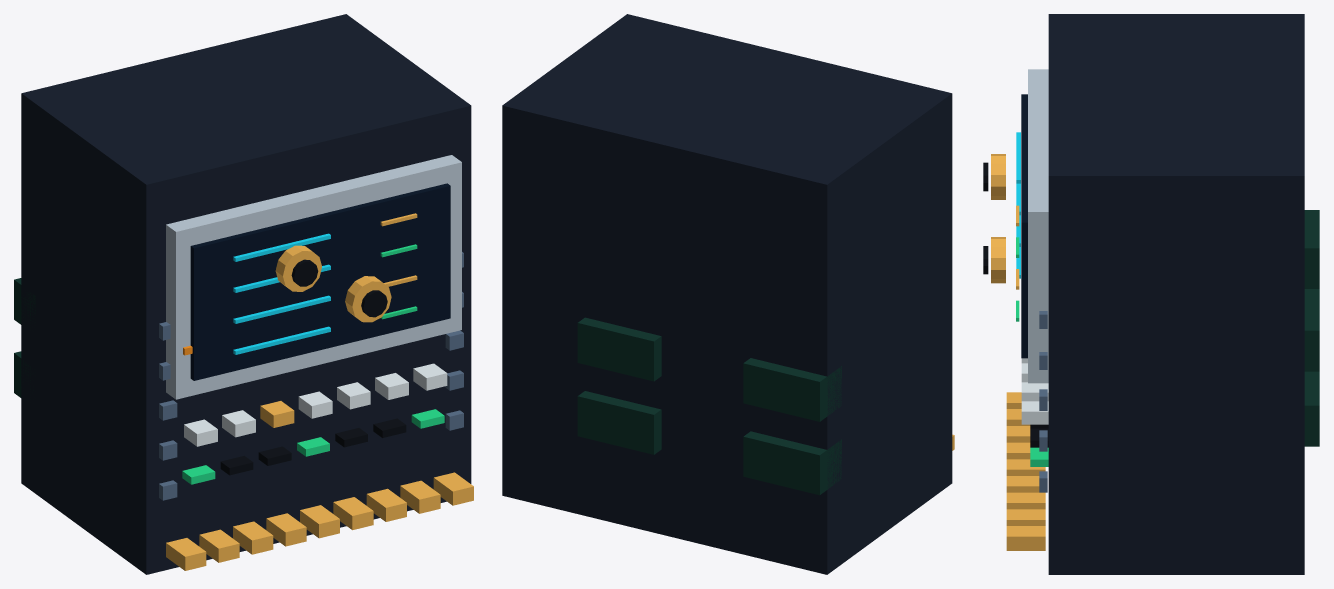
The model's file is 95_L91_MissionSummaryConsole.fbx.
3 renders of one model, left to right at view 1: azimuth 30°, elevation 25°; view 2: azimuth 150°, elevation 25°; view 3: azimuth 270°, elevation 25°, orthographic. The views are drawn at different scales.
Visible parts, largest first — view 1: L91_MissionSummaryConsole, L91_MissionSummaryConsole_Part_0013, L91_MissionSummaryConsole_Part_0011; view 2: L91_MissionSummaryConsole; view 3: L91_MissionSummaryConsole, L91_MissionSummaryConsole_Part_0013, L91_MissionSummaryConsole_Part_0011.
Part boxes in pixels (box(x1,y1,x2,y2)): L91_MissionSummaryConsole: box(14, 14, 473, 574); L91_MissionSummaryConsole_Part_0013: box(345, 276, 391, 322); L91_MissionSummaryConsole_Part_0011: box(275, 245, 321, 291); L91_MissionSummaryConsole: box(502, 14, 954, 574); L91_MissionSummaryConsole: box(1006, 14, 1319, 574); L91_MissionSummaryConsole_Part_0013: box(991, 237, 1005, 283); L91_MissionSummaryConsole_Part_0011: box(991, 154, 1005, 199).
Bounding box in the file's own units: 108 × 123 × 94.29.
